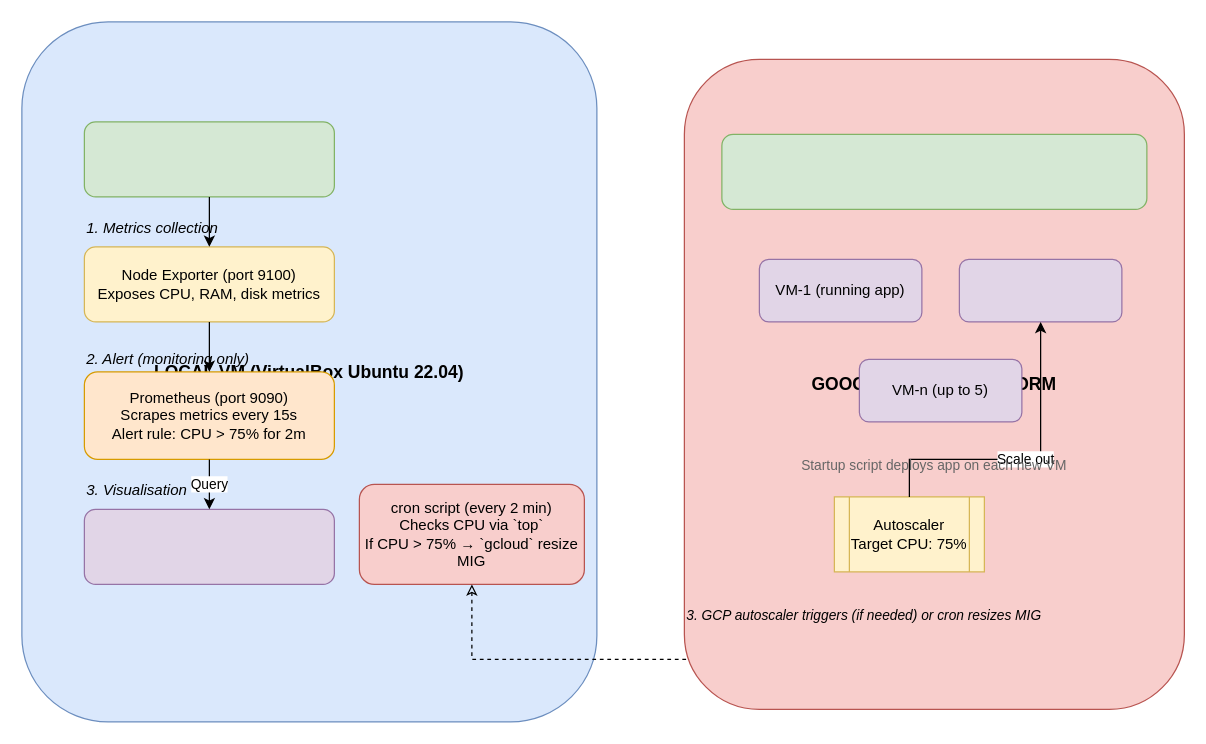
This 1206x744 diagram has some shape labels left out. The shapes that lost their labels are listed below. From the top down, each one's centre as x and y in pixels, then its label:
At point 208,159: "Library App (React + Node.js + PostgreSQL)".
At point 934,171: "Managed Instance Group (library-mig) Min: 1, Max: 5, Cooldown: 120s".
At point 1040,290: "VM-2 (auto-scaled)".
At point 208,546: "Grafana (port 3001) Dashboards & Visualization".
